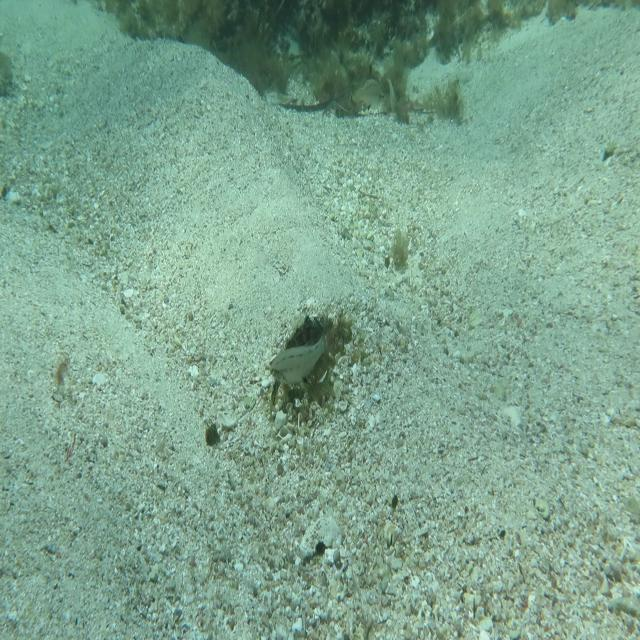DAN_CIRC: (260, 308, 339, 418)
female: (268, 314, 338, 390)
nest: (267, 299, 356, 416)
vegetation: (104, 0, 542, 45), (216, 46, 425, 94), (387, 226, 413, 271), (203, 418, 224, 450)
